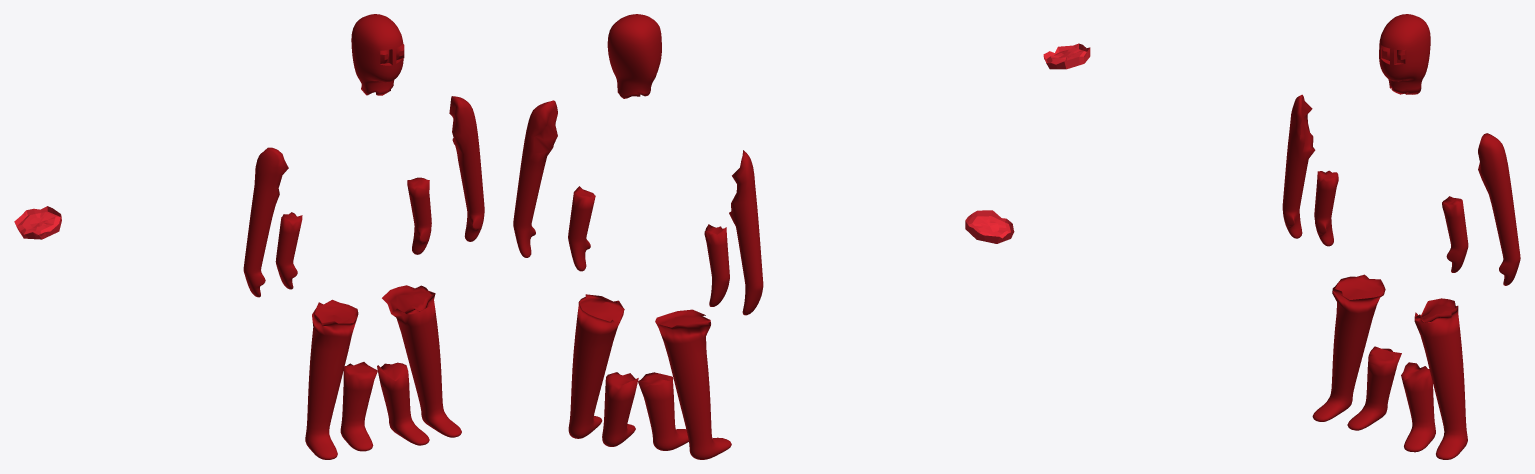
The model's file is SeveredLimbs.fbx.
The picture shows the model from 3 angles, left to right: view 1: azimuth 30°, elevation 25°; view 2: azimuth 150°, elevation 25°; view 3: azimuth 330°, elevation 25°; orthographic projection. The views are drawn at different scales.
Visible parts, largest first — view 1: SeveredRightLeg, SeveredLeftLeg, SeveredHead, SeveredRightArm, SeveredLeftArm, SeveredRightLowerLeg, SeveredLeftLowerLeg, SeveredLeftForeArm, SeveredRightForearm, Wound; view 2: SeveredRightLeg, SeveredLeftLeg, SeveredHead, SeveredLeftArm, SeveredRightArm, SeveredRightLowerLeg, SeveredLeftLowerLeg, SeveredLeftForeArm, SeveredRightForearm, Wound; view 3: SeveredLeftLeg, SeveredRightLeg, SeveredHead, SeveredLeftArm, SeveredRightArm, SeveredLeftLowerLeg, SeveredRightLowerLeg, SeveredRightForearm, SeveredLeftForeArm, Wound.
Part boxes in pixels (left/top/right/bottom): SeveredRightLeg: left=305, top=299, right=358, bottom=459; SeveredLeftLeg: left=382, top=285, right=461, bottom=437; SeveredHead: left=351, top=14, right=404, bottom=95; SeveredRightArm: left=243, top=147, right=288, bottom=297; SeveredLeftArm: left=449, top=96, right=484, bottom=241; SeveredRightLowerLeg: left=340, top=362, right=377, bottom=451; SeveredLeftLowerLeg: left=377, top=362, right=429, bottom=445; SeveredLeftForeArm: left=407, top=177, right=431, bottom=254; SeveredRightForearm: left=275, top=212, right=302, bottom=289; Wound: left=14, top=206, right=61, bottom=239; SeveredRightLeg: left=655, top=309, right=731, bottom=459; SeveredLeftLeg: left=568, top=294, right=624, bottom=438; SeveredHead: left=607, top=14, right=661, bottom=98; SeveredLeftArm: left=513, top=100, right=557, bottom=257; SeveredRightArm: left=729, top=150, right=763, bottom=315; SeveredRightLowerLeg: left=638, top=372, right=688, bottom=450; SeveredLeftLowerLeg: left=602, top=372, right=638, bottom=446; SeveredLeftForeArm: left=568, top=186, right=595, bottom=271; SeveredRightForearm: left=704, top=224, right=729, bottom=306; Wound: left=965, top=210, right=1014, bottom=243; SeveredLeftLeg: left=1414, top=298, right=1467, bottom=459; SeveredRightLeg: left=1312, top=274, right=1385, bottom=421; SeveredHead: left=1379, top=14, right=1430, bottom=94; SeveredLeftArm: left=1478, top=133, right=1520, bottom=285; SeveredRightArm: left=1282, top=94, right=1315, bottom=238; SeveredLeftLowerLeg: left=1401, top=362, right=1435, bottom=452; SeveredRightLowerLeg: left=1347, top=346, right=1401, bottom=430; SeveredRightForearm: left=1314, top=170, right=1338, bottom=246; SeveredLeftForeArm: left=1442, top=196, right=1468, bottom=272; Wound: left=1043, top=43, right=1090, bottom=69.
Bounding box in the file's own units: 1560 × 1323 × 198.
